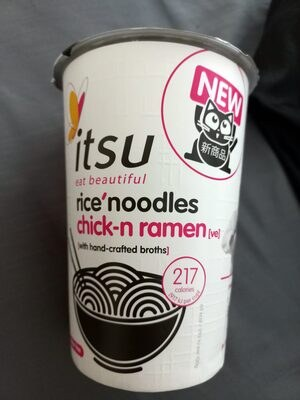Rice noodles chick-n ramen: (15, 20, 285, 380)
